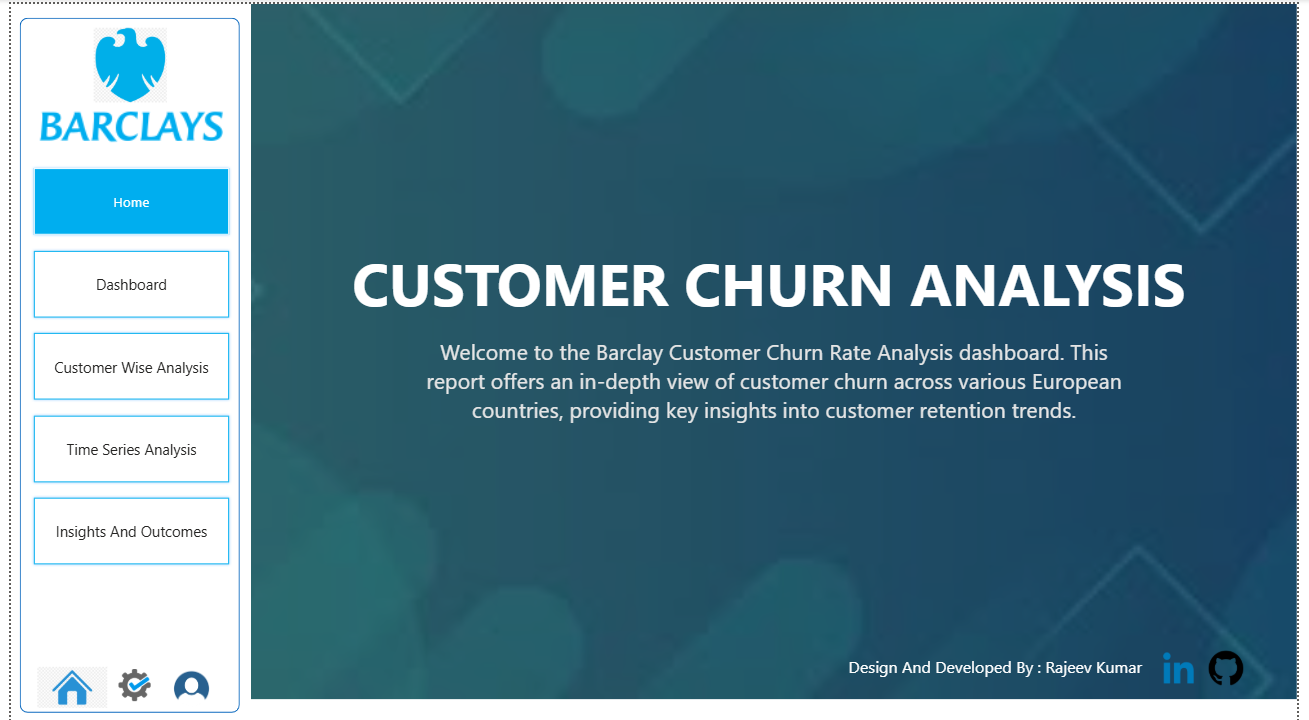

What the dashboard file says about the page in this screenshot:
{"tool":"powerbi","page":{"name":"Home","canvas":[1280,720],"ordinal":0},"visuals":[{"type":"group","id":"g1","title":"Group 2","box":[8.7,13.7,218.9,691.6],"z":0},{"type":"shape","box":[8.7,13.7,218.9,691.6],"z":0,"group":"g1"},{"type":"image","box":[238.8,0,1041.2,691.6],"z":1000},{"type":"image","box":[28.6,98.2,182.7,48.1],"z":1000,"group":"g1"},{"type":"image","box":[53.9,23.9,130.3,74.3],"z":2000,"group":"g1"},{"type":"textbox","box":[334.6,232.6,850.9,93.3],"z":2000},{"type":"textbox","box":[396.8,325.9,725.2,108.2],"z":2001},{"type":"textbox","box":[821,643.1,317.2,34.8],"z":2002},{"type":"image","box":[1138.2,643.1,47.3,34.8],"z":2003},{"type":"image","box":[1185.5,643.1,47.3,34.8],"z":2004},{"type":"pageNavigator","box":[19.6,160.8,200.8,401.9],"z":3000,"group":"g1"},{"type":"image","box":[95.6,661.7,54.3,32],"z":4000,"group":"g1"},{"type":"image","box":[26.5,658.5,69.7,43.5],"z":5000,"group":"g1"},{"type":"image","box":[149.8,661.7,61.5,39.3],"z":6000,"group":"g1"}]}

Visuals, with their boxes in screenshot pixels (x1, y1, x2, y2), scaled from the page's 1280x720 canvas onto the 1309x720 screenshot:
"Group 2" group: (9,14,233,705)
shape: (9,14,233,705)
image: (244,0,1308,692)
image: (29,98,216,146)
image: (55,24,188,98)
textbox: (342,233,1212,326)
textbox: (406,326,1147,434)
textbox: (840,643,1164,678)
image: (1164,643,1212,678)
image: (1212,643,1261,678)
pageNavigator: (20,161,225,563)
image: (98,662,153,694)
image: (27,658,98,702)
image: (153,662,216,701)
